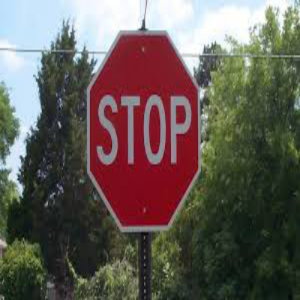STOP_SIGN: (86, 31, 201, 231)
